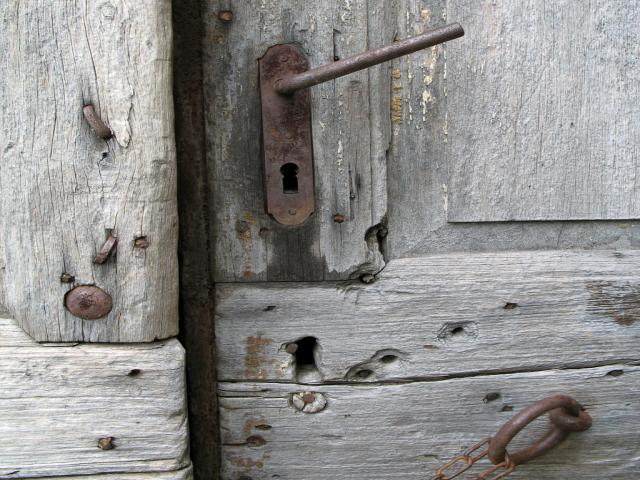Door-handle: (262, 20, 468, 226)
